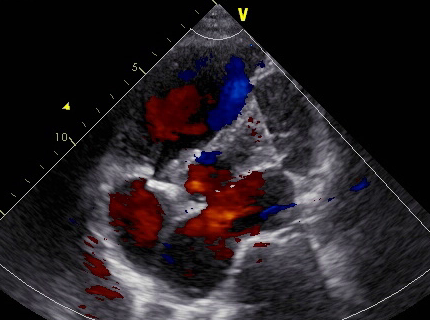PR: (210, 136, 303, 254)
